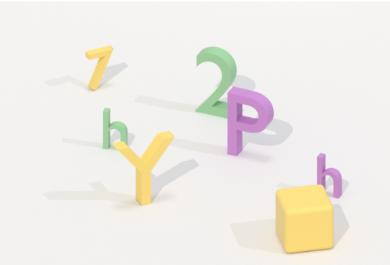0-KhoiVuong: (270, 181, 336, 259)
2: (190, 42, 239, 122)
7: (81, 40, 115, 96)
P: (225, 85, 278, 160)
Y: (112, 128, 179, 210)
h: (314, 149, 345, 202), (101, 105, 130, 151)
